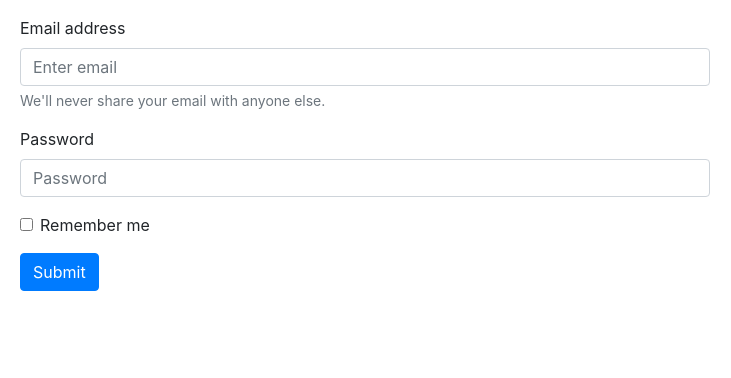
Scenario: Admin login › with bad password › succeeds
Type "alice@test.cz" into the field with id "email" at (365, 67), box [20, 48, 710, 86]
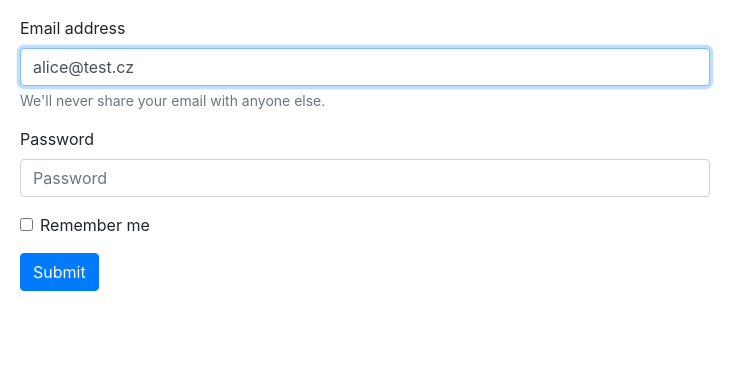
Type "bbb" into the password field with placeholder "Password" at (365, 178), box [20, 159, 710, 197]
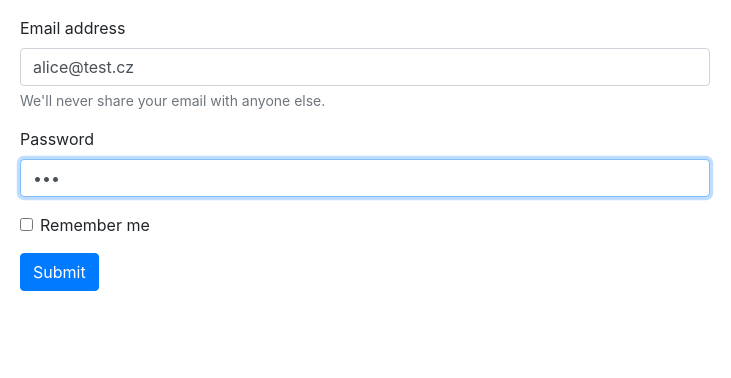
Click the button with id "login-submit" at (60, 272), box [20, 253, 99, 291]
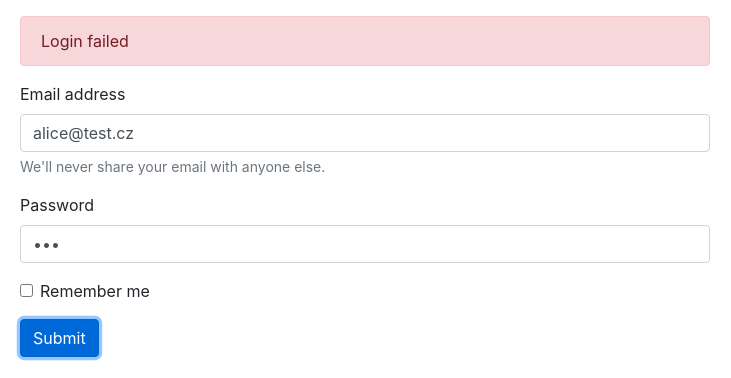
Expected: the message with id "login-alert" shows "failed", [20, 16, 710, 66]
